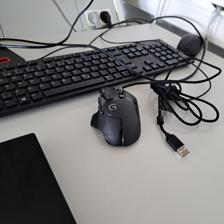mouse: (90, 84, 141, 148)
